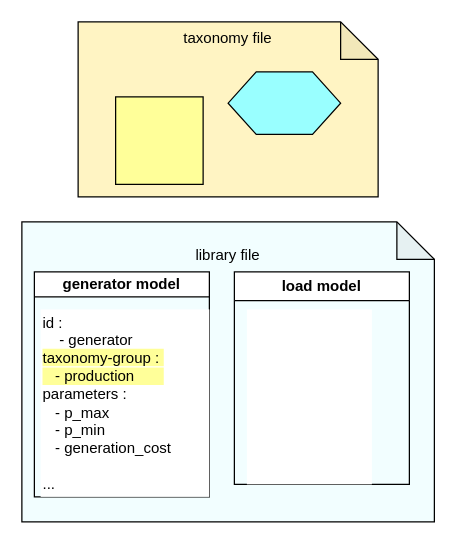
This 456x544 diagram has some shape labels left out. The centre of each missing label's shape, as x and y in pixels:
consumption: pixel 284 102
id : - generator taxonomy-group : - consumption parameters : - load ...: pixel 308 396
production: pixel 158 140
